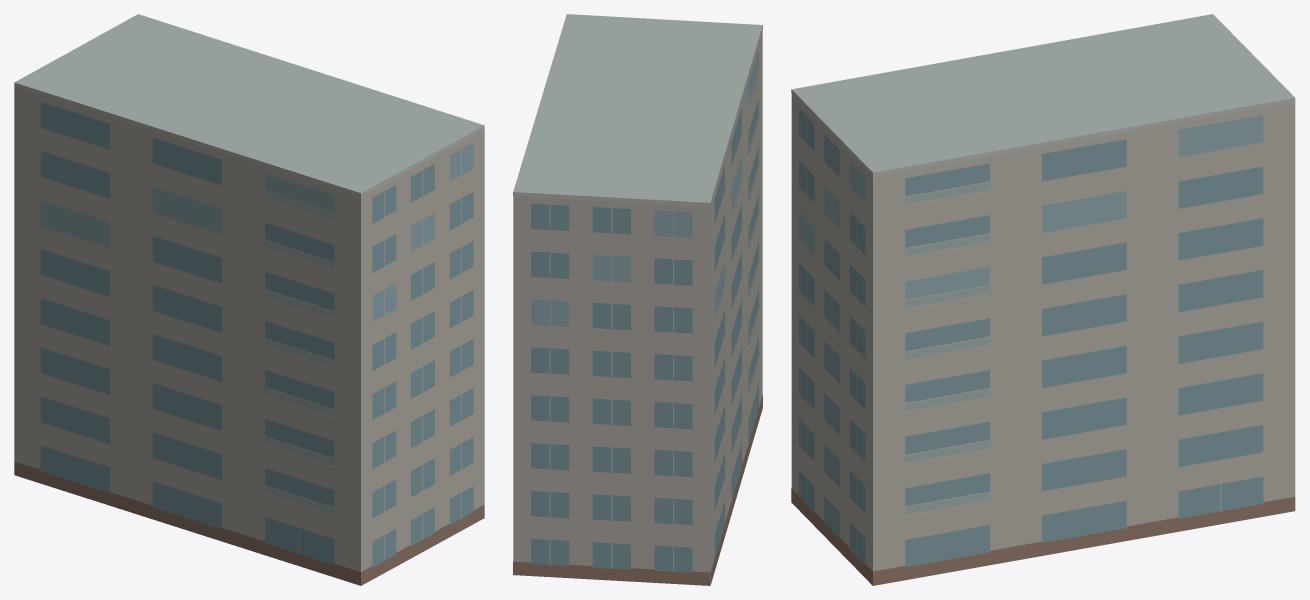
File: survey-upis-32709323.glb
The picture shows the model from 3 angles, left to right: view 1: azimuth 30°, elevation 25°; view 2: azimuth 150°, elevation 25°; view 3: azimuth 270°, elevation 25°; orthographic projection. The views are drawn at different scales.
Parts seen in each view (by area): view 1: survey-upis-32709323.tmp; view 2: survey-upis-32709323.tmp; view 3: survey-upis-32709323.tmp.
Part boxes in pixels (left/top/right/bottom): survey-upis-32709323.tmp: left=14, top=14, right=484, bottom=585; survey-upis-32709323.tmp: left=513, top=14, right=762, bottom=585; survey-upis-32709323.tmp: left=791, top=14, right=1295, bottom=585.
Bounding box in the file's own units: 19.44 × 23.6 × 26.09.
